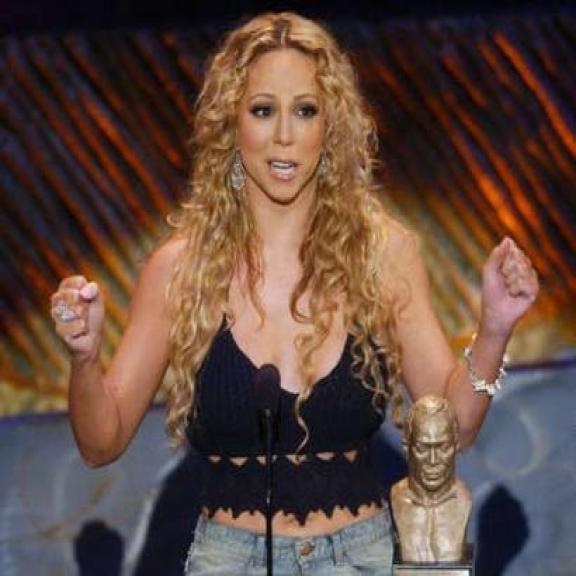face: (230, 47, 336, 202)
